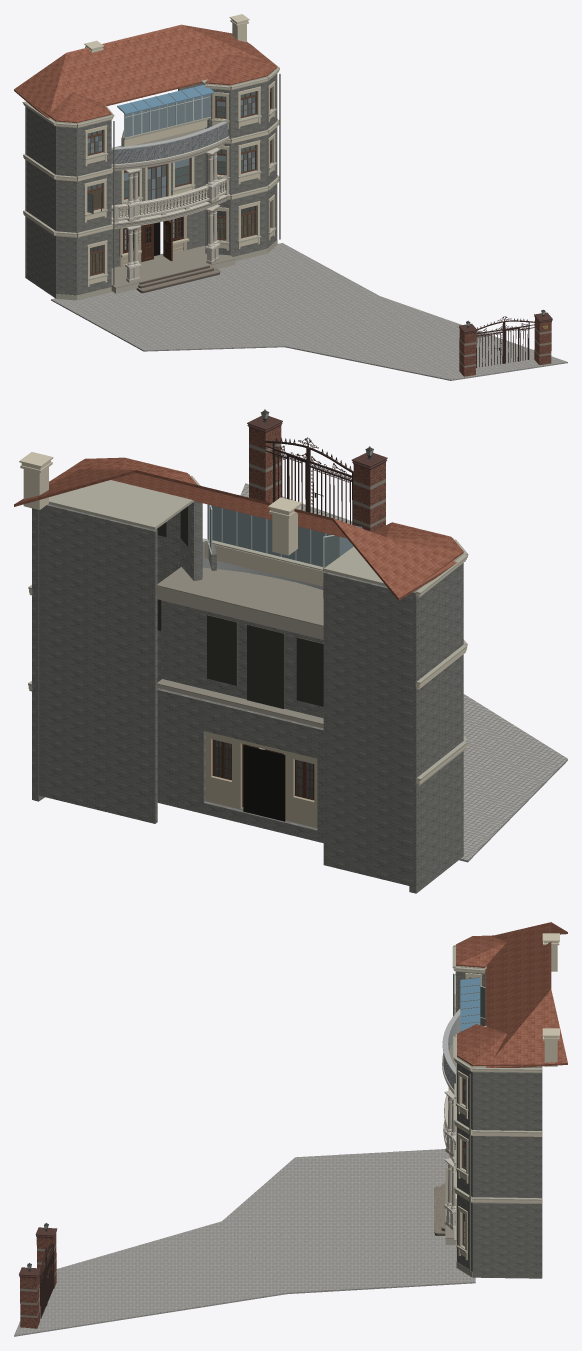
Rendered from jingan-liulin-villa-no51-garden-front-web.glb.
3 views of the same model, one above another, from view 1: azimuth 30°, elevation 25°; view 2: azimuth 150°, elevation 25°; view 3: azimuth 270°, elevation 25° (orthographic). The views are drawn at different scales.
Visible parts, largest first — view 1: 柳林别墅51号双凸窗、弧廊与花园门; view 2: 柳林别墅51号双凸窗、弧廊与花园门; view 3: 柳林别墅51号双凸窗、弧廊与花园门.
Boxes of the visible parts, left/top/right/bottom form: 柳林别墅51号双凸窗、弧廊与花园门: left=14, top=14, right=567, bottom=380; 柳林别墅51号双凸窗、弧廊与花园门: left=14, top=409, right=567, bottom=893; 柳林别墅51号双凸窗、弧廊与花园门: left=14, top=922, right=567, bottom=1336.
Bounding box in the file's own units: 23.45 × 14.81 × 29.12.
Materials: 43 (7 with a texture image).
